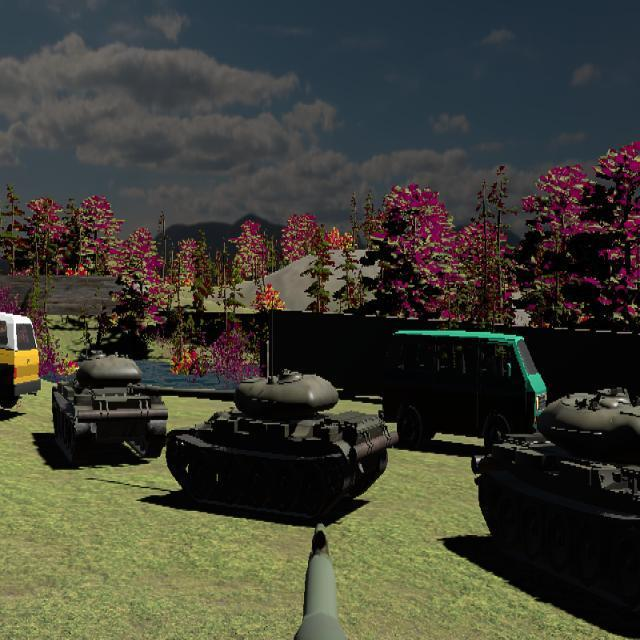Tank: (471, 381, 640, 626), (136, 368, 387, 523), (51, 352, 168, 464)
car: (381, 327, 548, 450), (0, 309, 41, 416)
